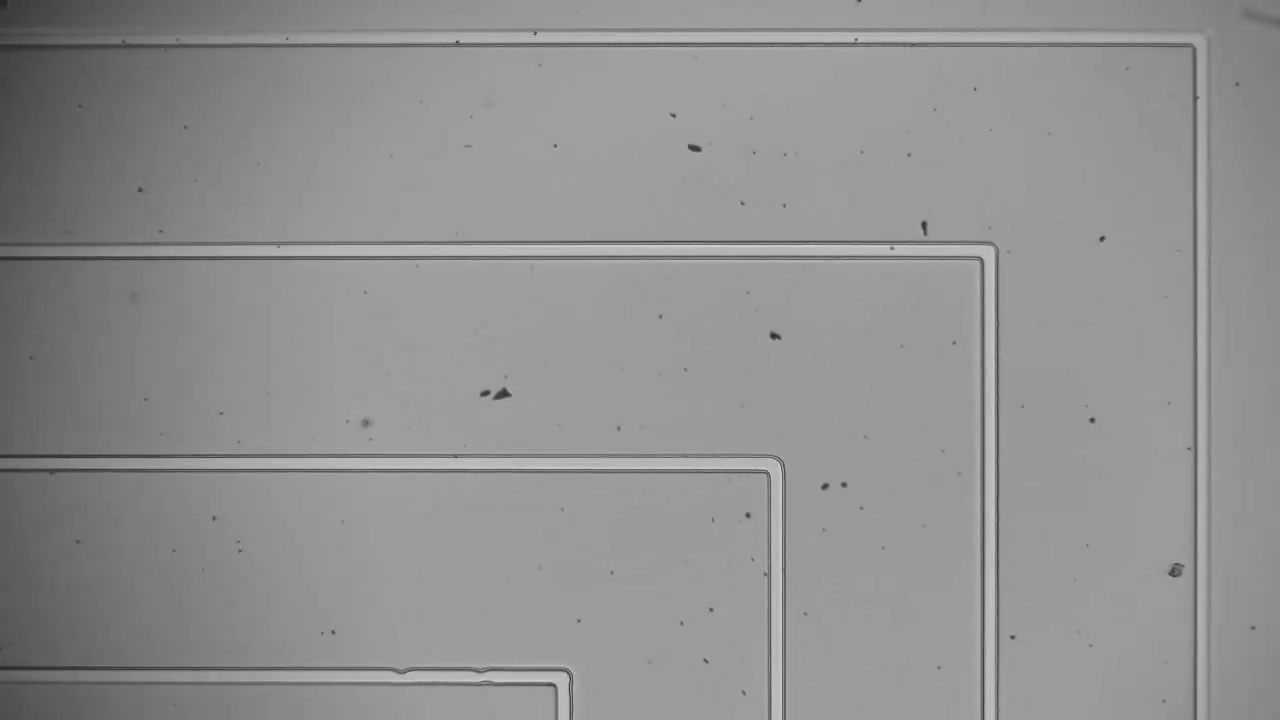edge_bite: (463, 660, 503, 690), (382, 658, 419, 690)
